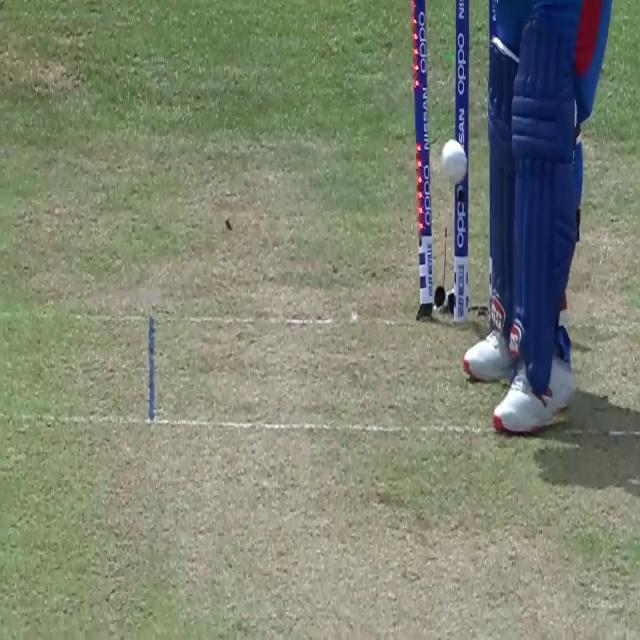ball: (442, 139, 468, 184)
